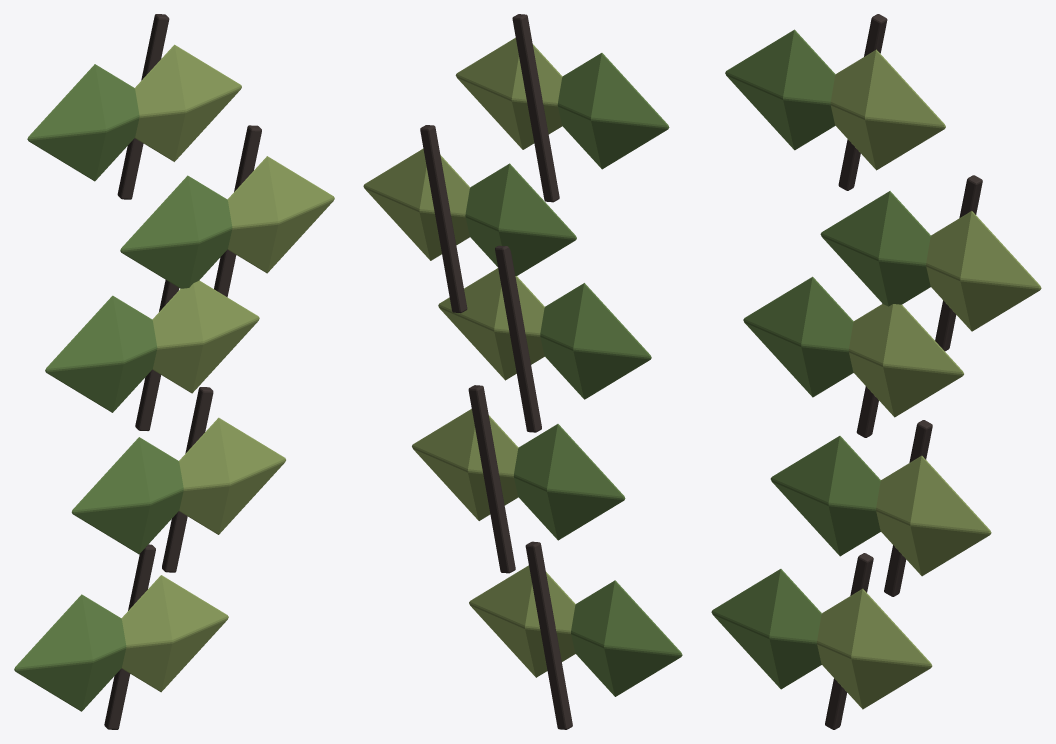
Rendered from overlay_ivy__weathering.glb.
3 views of the same model, side by side, from view 1: azimuth 30°, elevation 25°; view 2: azimuth 150°, elevation 25°; view 3: azimuth 330°, elevation 25° (orthographic). The views are drawn at different scales.
Visible parts, largest first — view 1: overlay_ivy__weathering__mesh_00; view 2: overlay_ivy__weathering__mesh_00; view 3: overlay_ivy__weathering__mesh_00.
Boxes of the visible parts, <box> form: overlay_ivy__weathering__mesh_00: <box>14,14,334,729</box>; overlay_ivy__weathering__mesh_00: <box>363,14,682,729</box>; overlay_ivy__weathering__mesh_00: <box>711,14,1041,729</box>.
Size of the model in its own units: 0.7262 by 1.52 by 0.0966.
